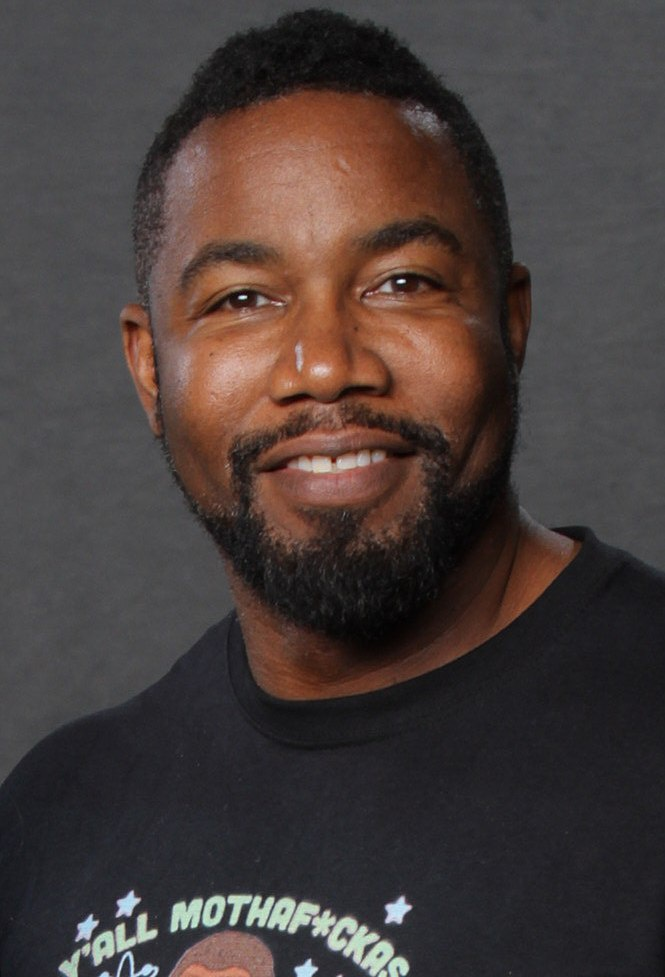bad: (170, 206, 491, 527)
